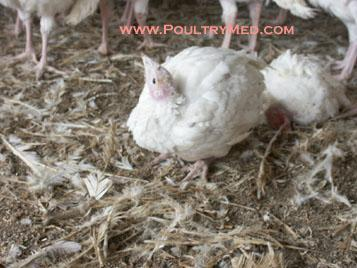AbNormal: (130, 47, 262, 160), (262, 50, 349, 133)
